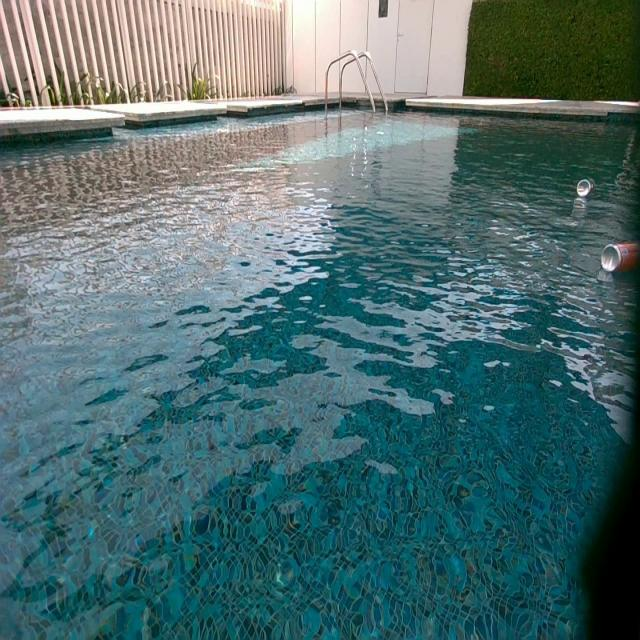Cans: (602, 244, 640, 276), (577, 178, 595, 197)
